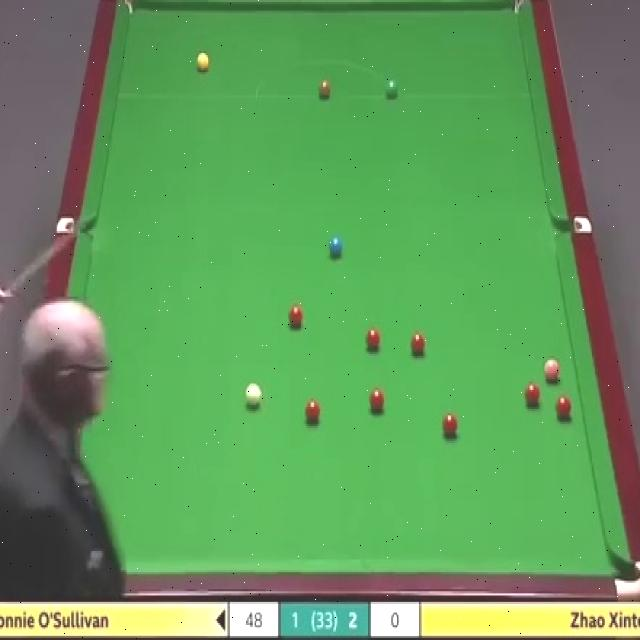blue-ball: (330, 236, 342, 259)
brown-ball: (318, 81, 332, 100)
green-ball: (386, 79, 398, 99)
pink-ball: (544, 357, 561, 384)
red-ball: (554, 393, 573, 420), (442, 410, 459, 438), (287, 302, 305, 328), (366, 326, 382, 352), (411, 329, 426, 356), (524, 383, 541, 406), (370, 388, 385, 414), (304, 399, 321, 421)
white-ball: (244, 382, 263, 413)
yellow-ball: (196, 52, 211, 75)
